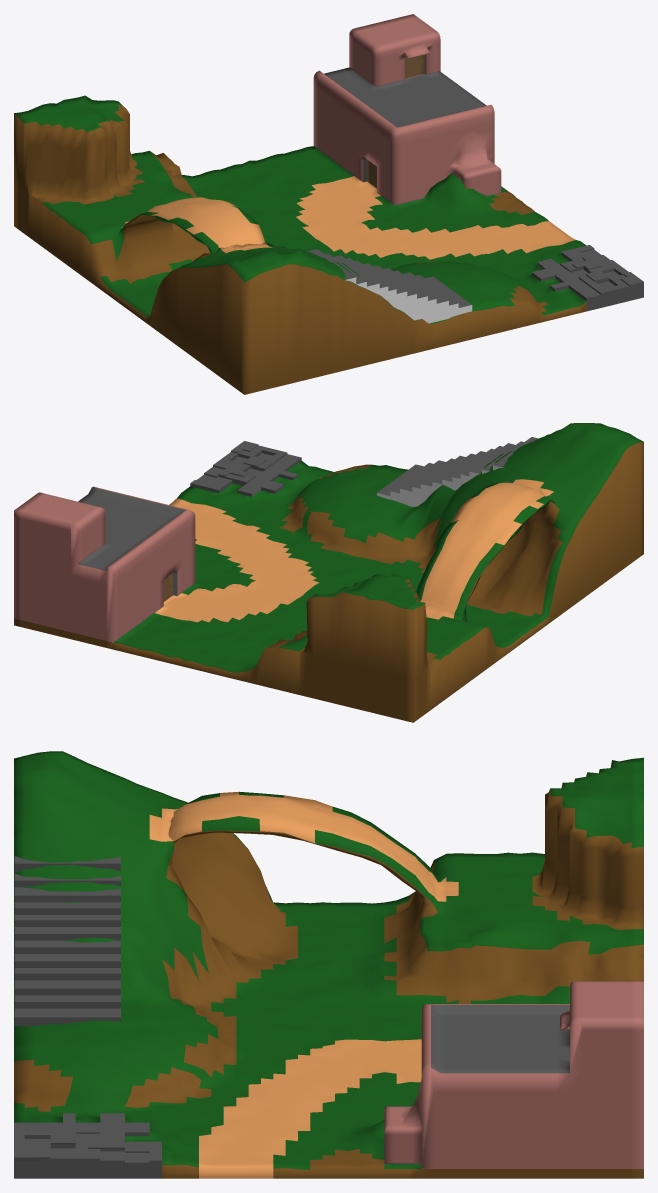
File: Enviroment.fbx
3 views of the same model, one above another, from view 1: azimuth 30°, elevation 25°; view 2: azimuth 150°, elevation 25°; view 3: azimuth 270°, elevation 25° (orthographic). The views are drawn at different scales.
Parts seen in each view (by area): view 1: Map; view 2: Map; view 3: Map.
Boxes of the visible parts, left/top/right/bottom form: Map: left=14, top=14, right=643, bottom=394; Map: left=14, top=423, right=643, bottom=722; Map: left=14, top=751, right=643, bottom=1178.
Bounding box in the file's own units: 4502 × 4498 × 1332.
